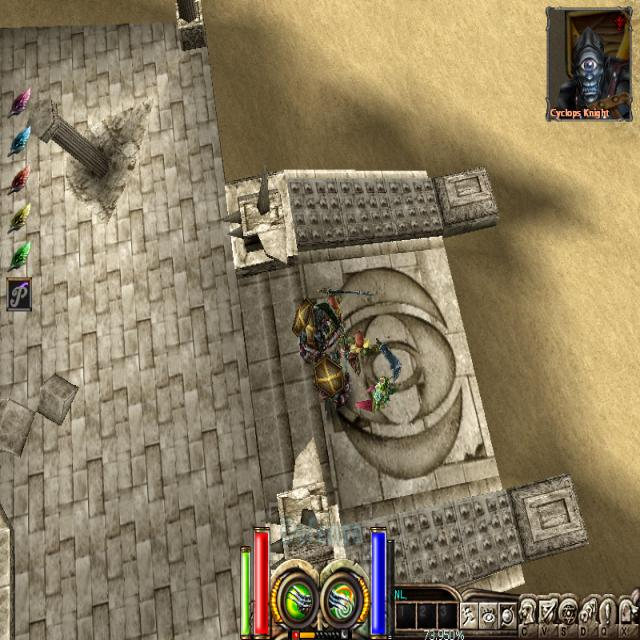monster: (292, 293, 329, 359), (320, 285, 355, 333), (366, 371, 391, 438), (314, 360, 348, 409), (352, 326, 380, 378), (363, 334, 371, 350)
